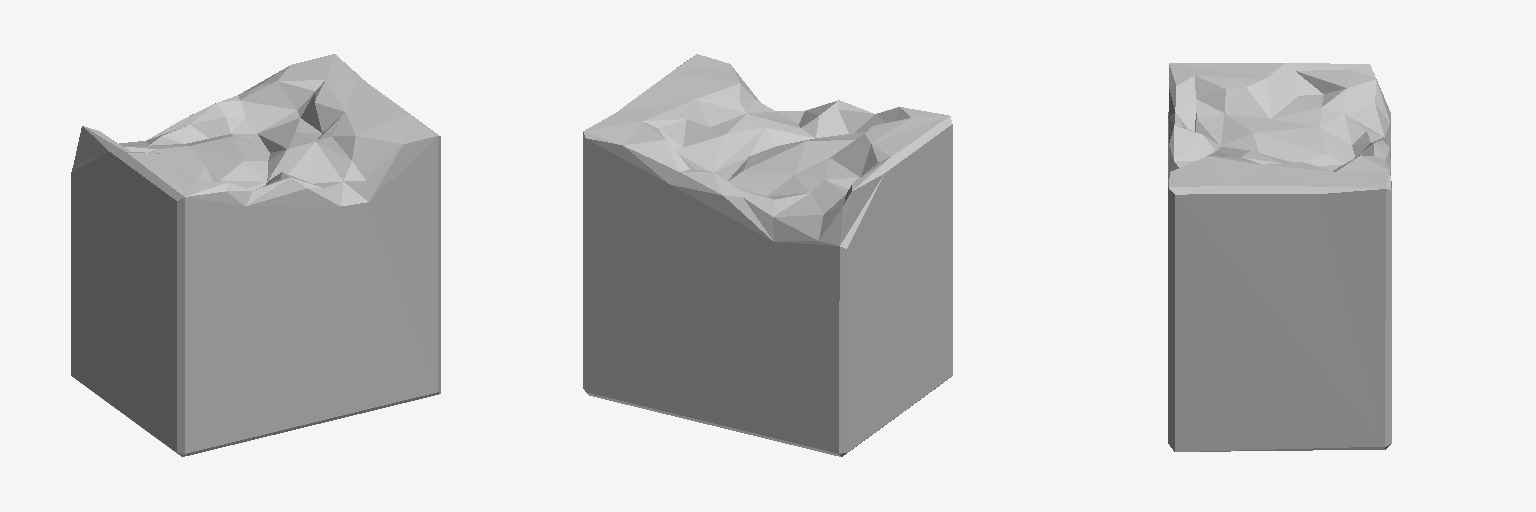
3 renders of one model, left to right at view 1: azimuth 30°, elevation 25°; view 2: azimuth 150°, elevation 25°; view 3: azimuth 270°, elevation 25°, orthographic.
Visible parts, largest first — view 1: Liquid_Domain; view 2: Liquid_Domain; view 3: Liquid_Domain.
Boxes of the visible parts, x1,y1,x2,y2 form: Liquid_Domain: [71, 54, 440, 456]; Liquid_Domain: [583, 54, 952, 456]; Liquid_Domain: [1168, 63, 1391, 451].
Size of the model in its own units: 16.97 by 16.19 by 12.43.